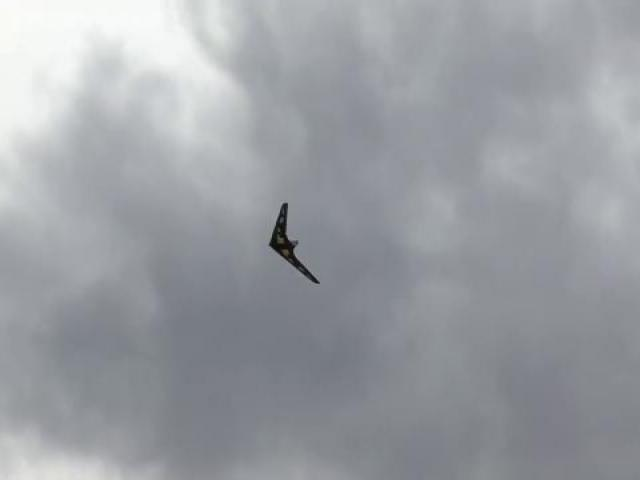flying wing: (266, 202, 322, 290)
